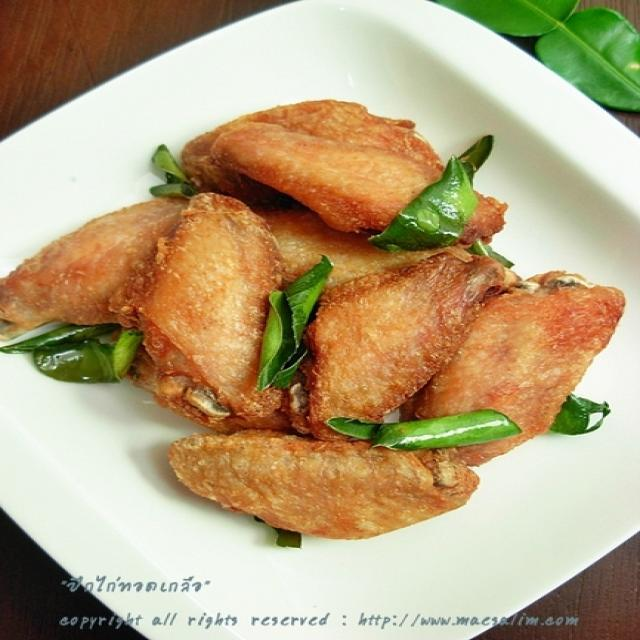Deep fried chicken wing: (6, 93, 636, 545)
